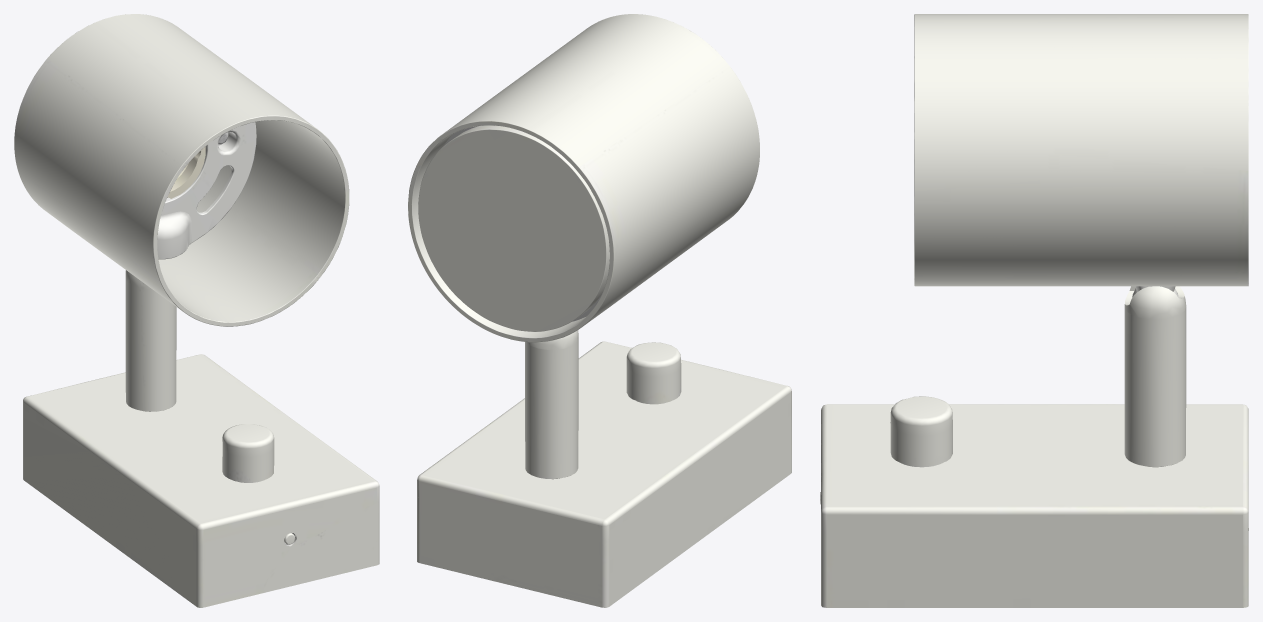
File: nymane_kinkiet_lampa_do_czyt_inst_staa_90356963.glb
3 views of the same model, side by side, from view 1: azimuth 30°, elevation 25°; view 2: azimuth 150°, elevation 25°; view 3: azimuth 270°, elevation 25° (orthographic). The views are drawn at different scales.
Parts seen in each view (by area): view 1: nymane_kinkiet_lampa_do_czyt_inst_staa_90356963; view 2: nymane_kinkiet_lampa_do_czyt_inst_staa_90356963; view 3: nymane_kinkiet_lampa_do_czyt_inst_staa_90356963.
Part boxes in pixels (<box>): nymane_kinkiet_lampa_do_czyt_inst_staa_90356963: <box>14,14,379,607</box>; nymane_kinkiet_lampa_do_czyt_inst_staa_90356963: <box>408,14,791,607</box>; nymane_kinkiet_lampa_do_czyt_inst_staa_90356963: <box>820,14,1248,607</box>.
Bounding box in the file's own units: 0.07 × 0.1498 × 0.1102.
1 material, 1 textured.
